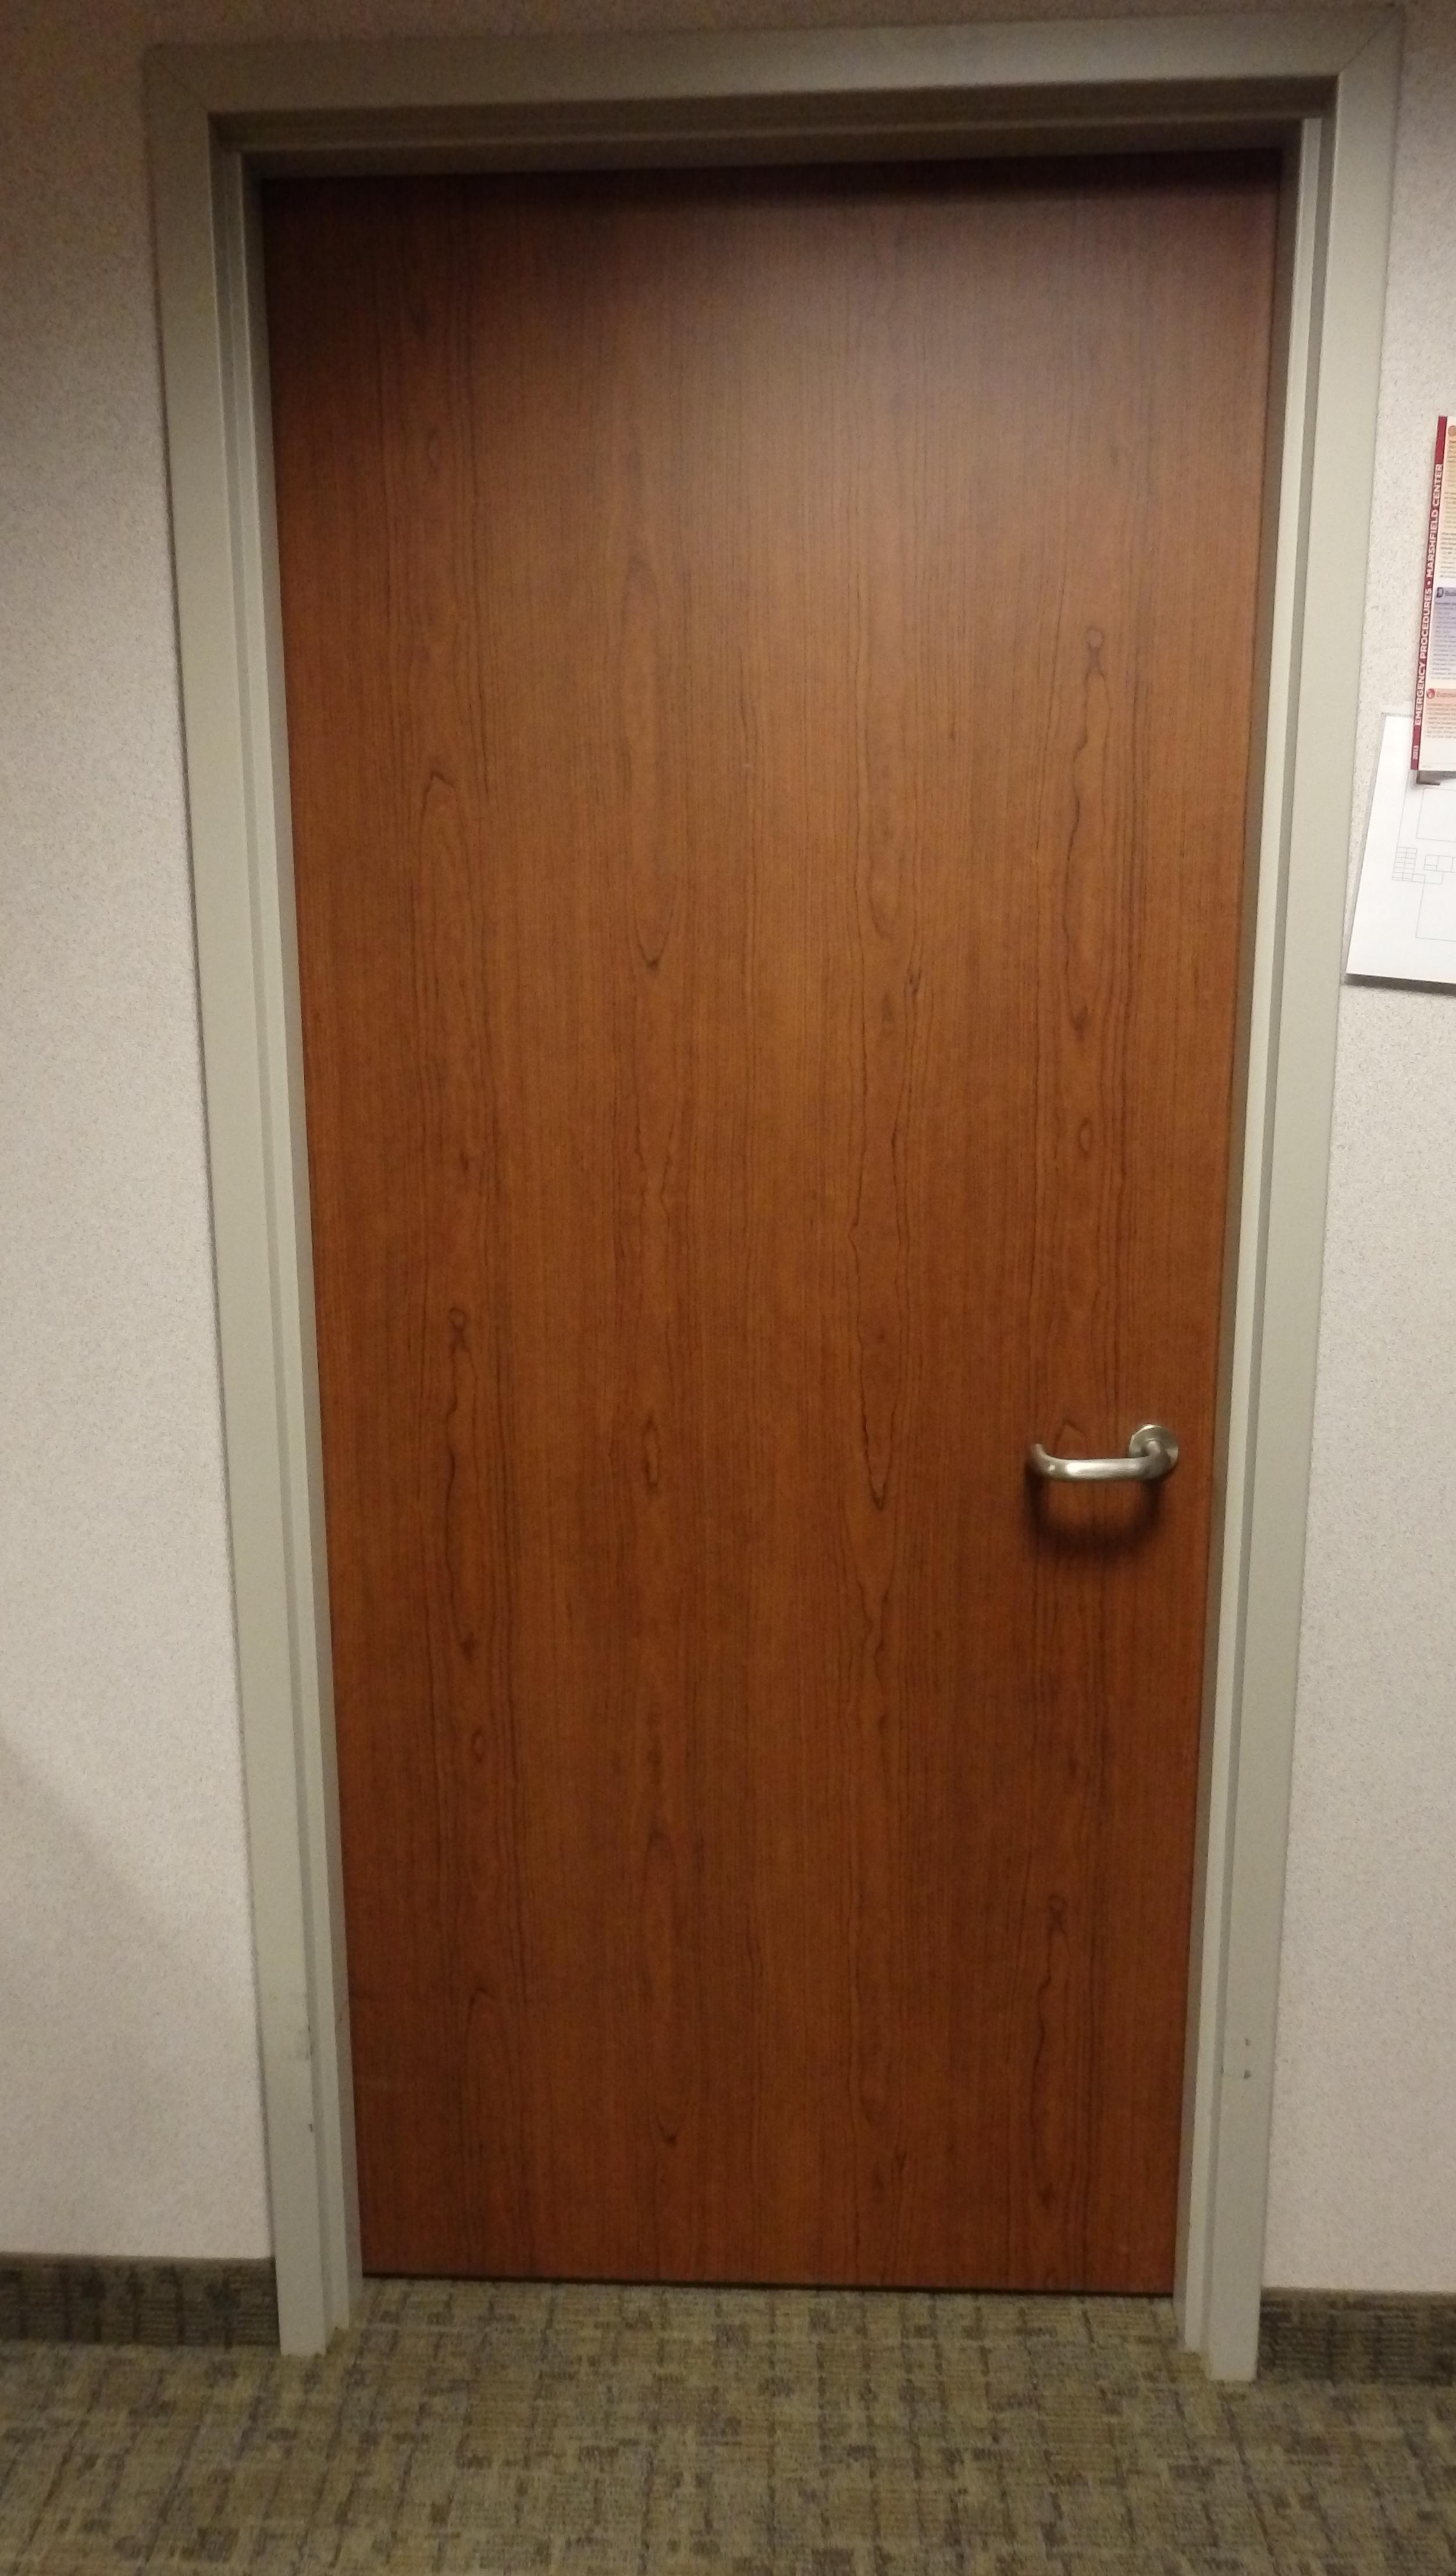door: (253, 126, 1355, 2342)
